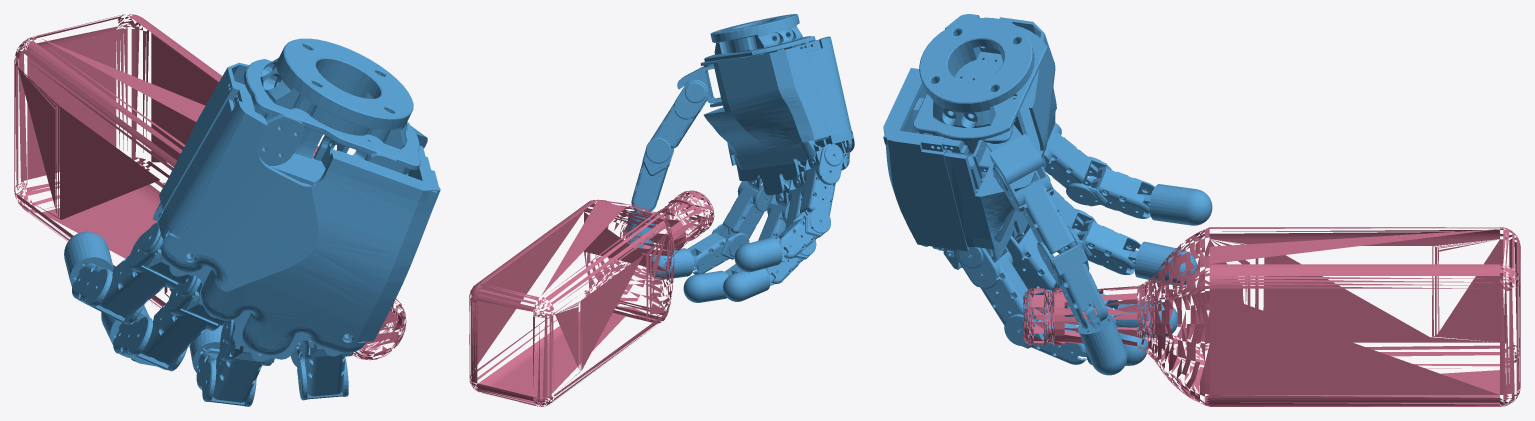
3 views of the same model, side by side, from view 1: azimuth 30°, elevation 25°; view 2: azimuth 150°, elevation 25°; view 3: azimuth 270°, elevation 25° (orthographic). The views are drawn at different scales.
Parts seen in each view (by area): view 1: hnu2; view 2: hnu2; view 3: hnu2.
Boxes of the visible parts, box(x1,y1,x2,y2) form: hnu2: box(14, 14, 440, 406); hnu2: box(469, 14, 854, 406); hnu2: box(883, 14, 1520, 406).
Bounding box in the file's own units: 0.1605 × 0.1953 × 0.3469.
